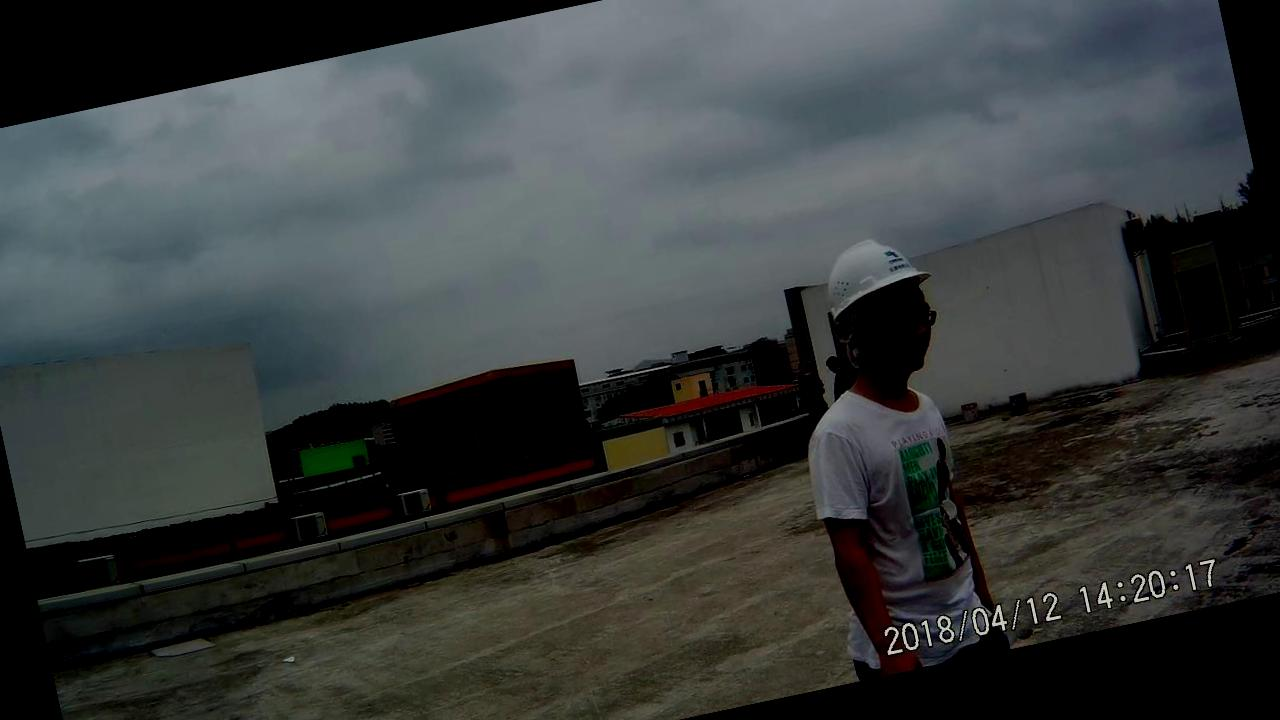helmet: (803, 222, 951, 340)
no_vest: (792, 365, 998, 614)
person: (758, 219, 1007, 631)
